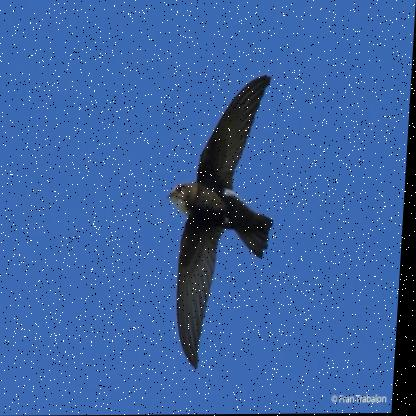Burung: (161, 74, 283, 370)
